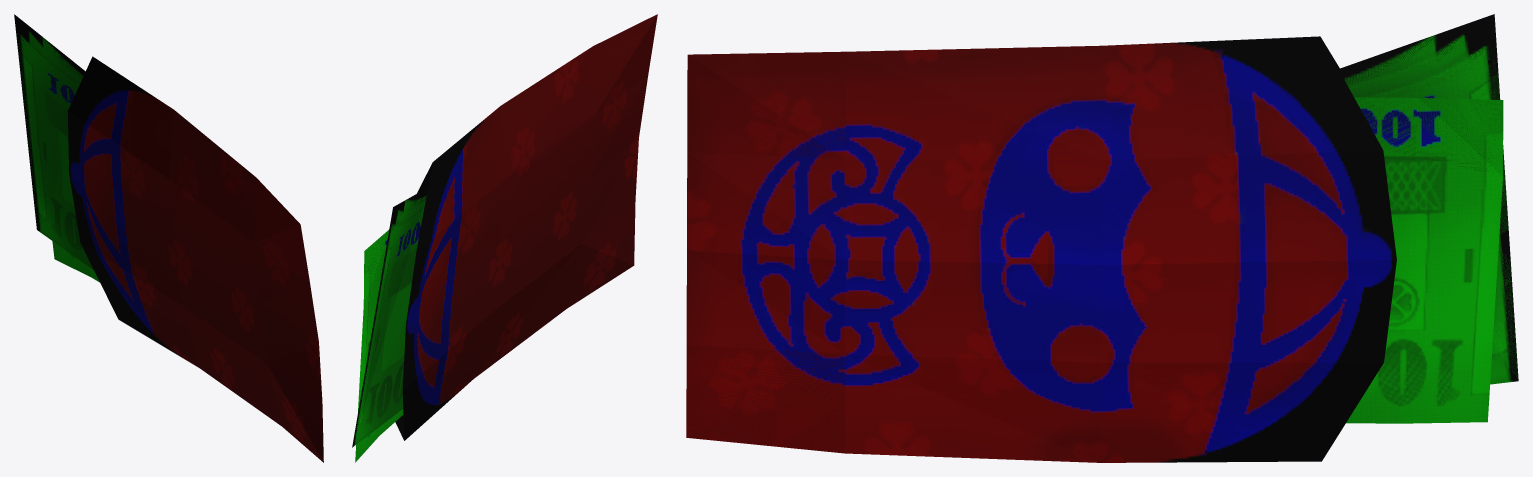
The picture shows the model from 3 angles, left to right: view 1: azimuth 30°, elevation 25°; view 2: azimuth 150°, elevation 25°; view 3: azimuth 270°, elevation 25°; orthographic projection. The views are drawn at different scales.
Visible parts, largest first — view 1: F1297; view 2: F1297; view 3: F1297.
Boxes of the visible parts, x1,y1,x2,y2 form: F1297: (14,14,323,462); F1297: (352,14,657,462); F1297: (686,14,1518,462).
Size of the model in its own units: 0.0652 by 0.2895 by 0.5285.
